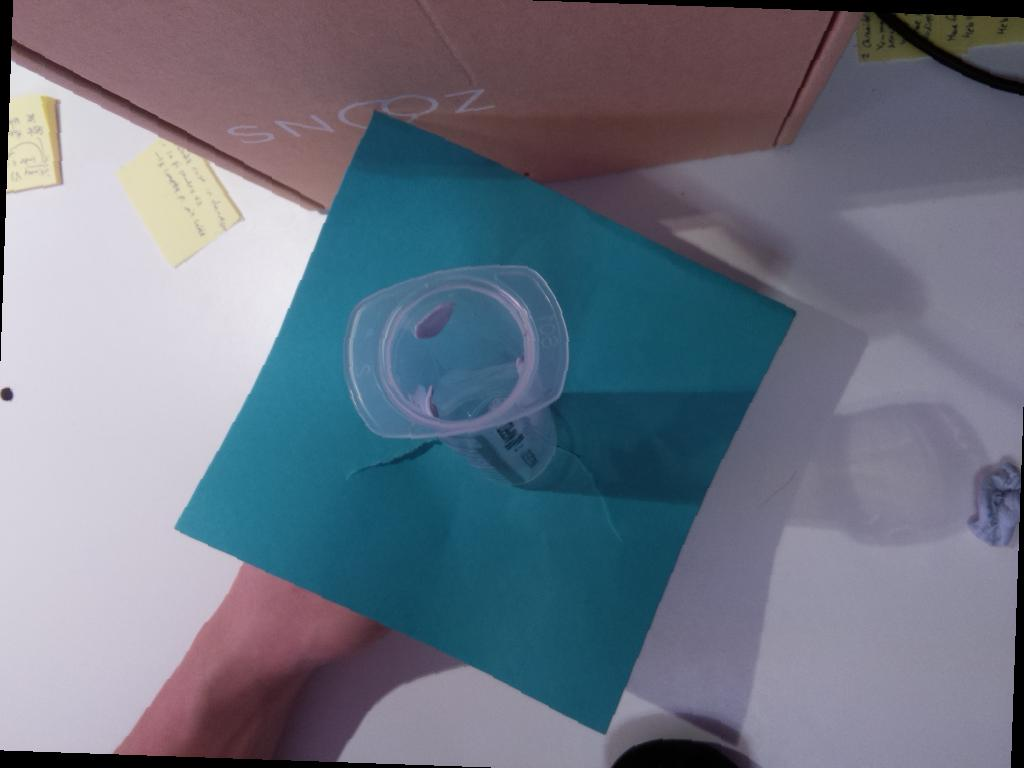dirty: (341, 264, 569, 437)
